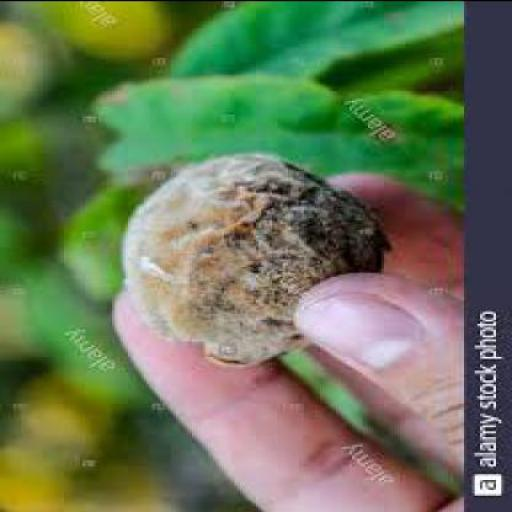biodegradable: (120, 152, 386, 366)
